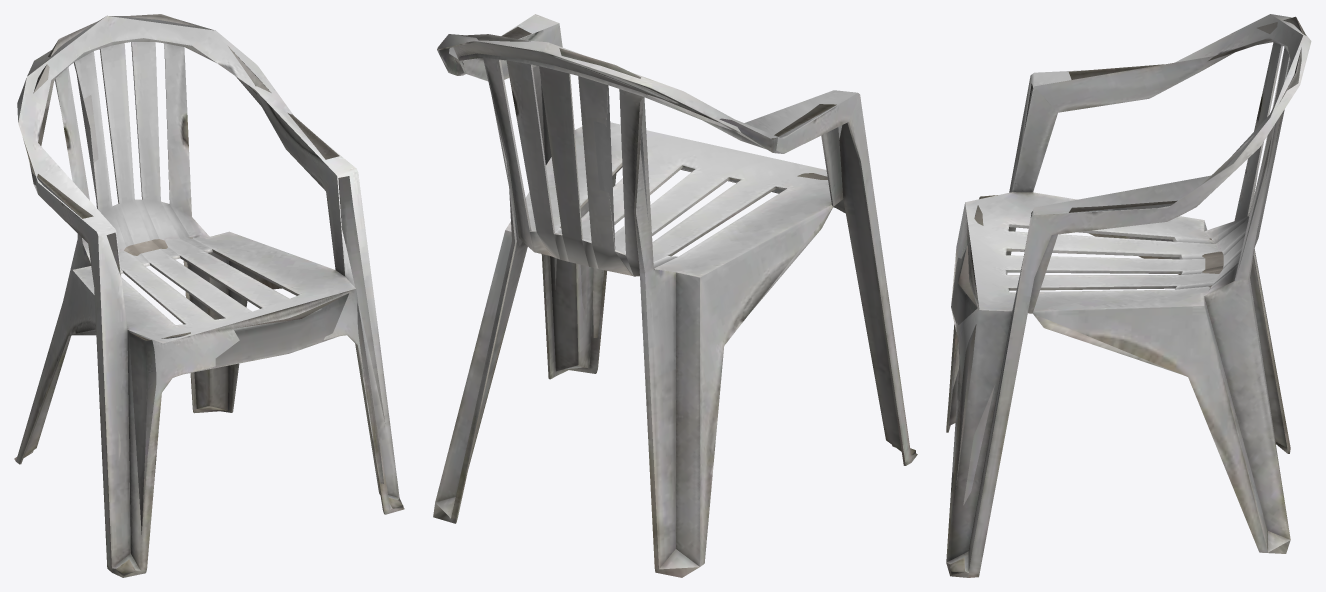
File: p_chair.glb
The picture shows the model from 3 angles, left to right: view 1: azimuth 30°, elevation 25°; view 2: azimuth 150°, elevation 25°; view 3: azimuth 270°, elevation 25°; orthographic projection. The views are drawn at different scales.
Visible parts, largest first — view 1: plastic_monobloc_chair_01; view 2: plastic_monobloc_chair_01; view 3: plastic_monobloc_chair_01.
Part boxes in pixels (x1=…): plastic_monobloc_chair_01: x1=14, y1=14, x2=404, y2=577; plastic_monobloc_chair_01: x1=433, y1=14, x2=917, y2=577; plastic_monobloc_chair_01: x1=946, y1=14, x2=1311, y2=577.
Size of the model in its own units: 0.6419 by 0.8798 by 0.6276.
1 material, 1 textured.
